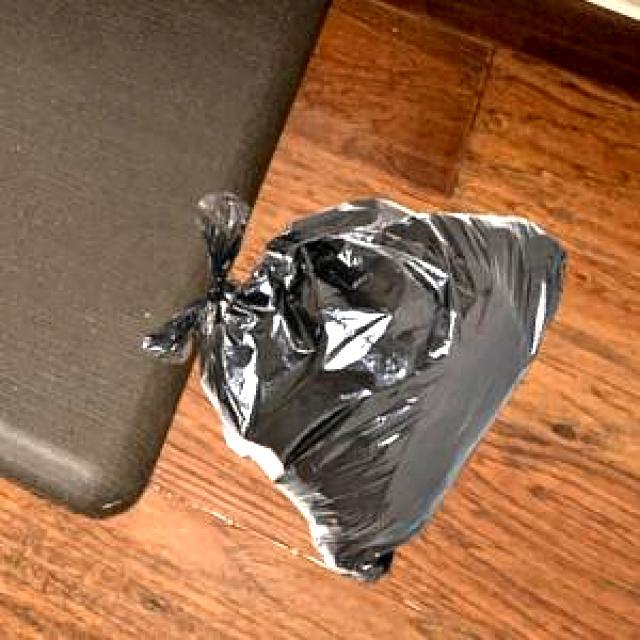Garbage_Bag: (138, 188, 564, 580)
